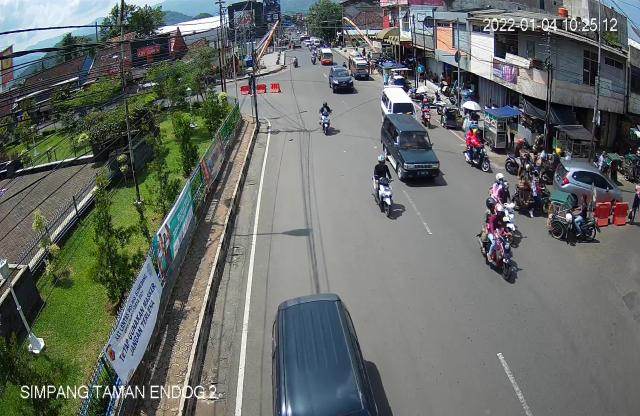Becak: (544, 188, 601, 244)
Mobil: (263, 290, 383, 416), (377, 110, 447, 183), (551, 152, 632, 208), (374, 86, 422, 126), (325, 64, 358, 94)
Motor: (477, 178, 522, 274), (364, 154, 406, 222), (510, 159, 548, 214), (458, 126, 492, 172), (317, 99, 336, 140)
